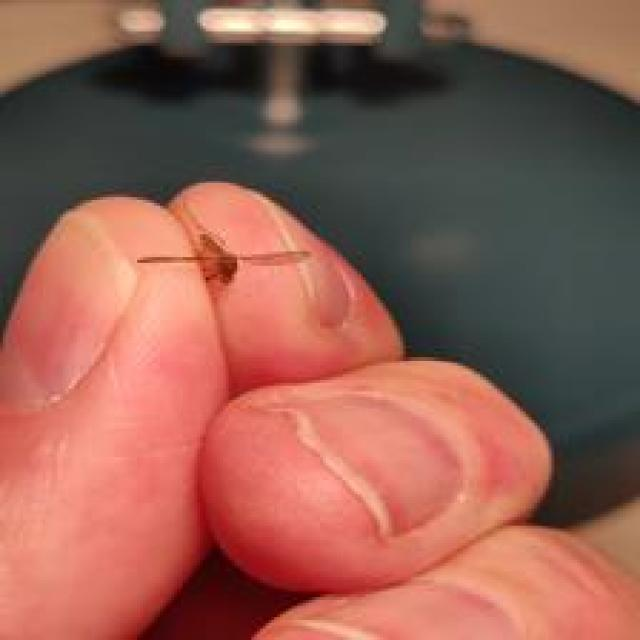Culex: (136, 198, 310, 302)
